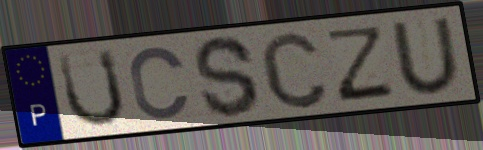C: (256, 27, 332, 111), (127, 43, 194, 122)
S: (191, 33, 263, 120)
U: (387, 14, 465, 97), (55, 46, 129, 130)
Z: (326, 22, 396, 105)
